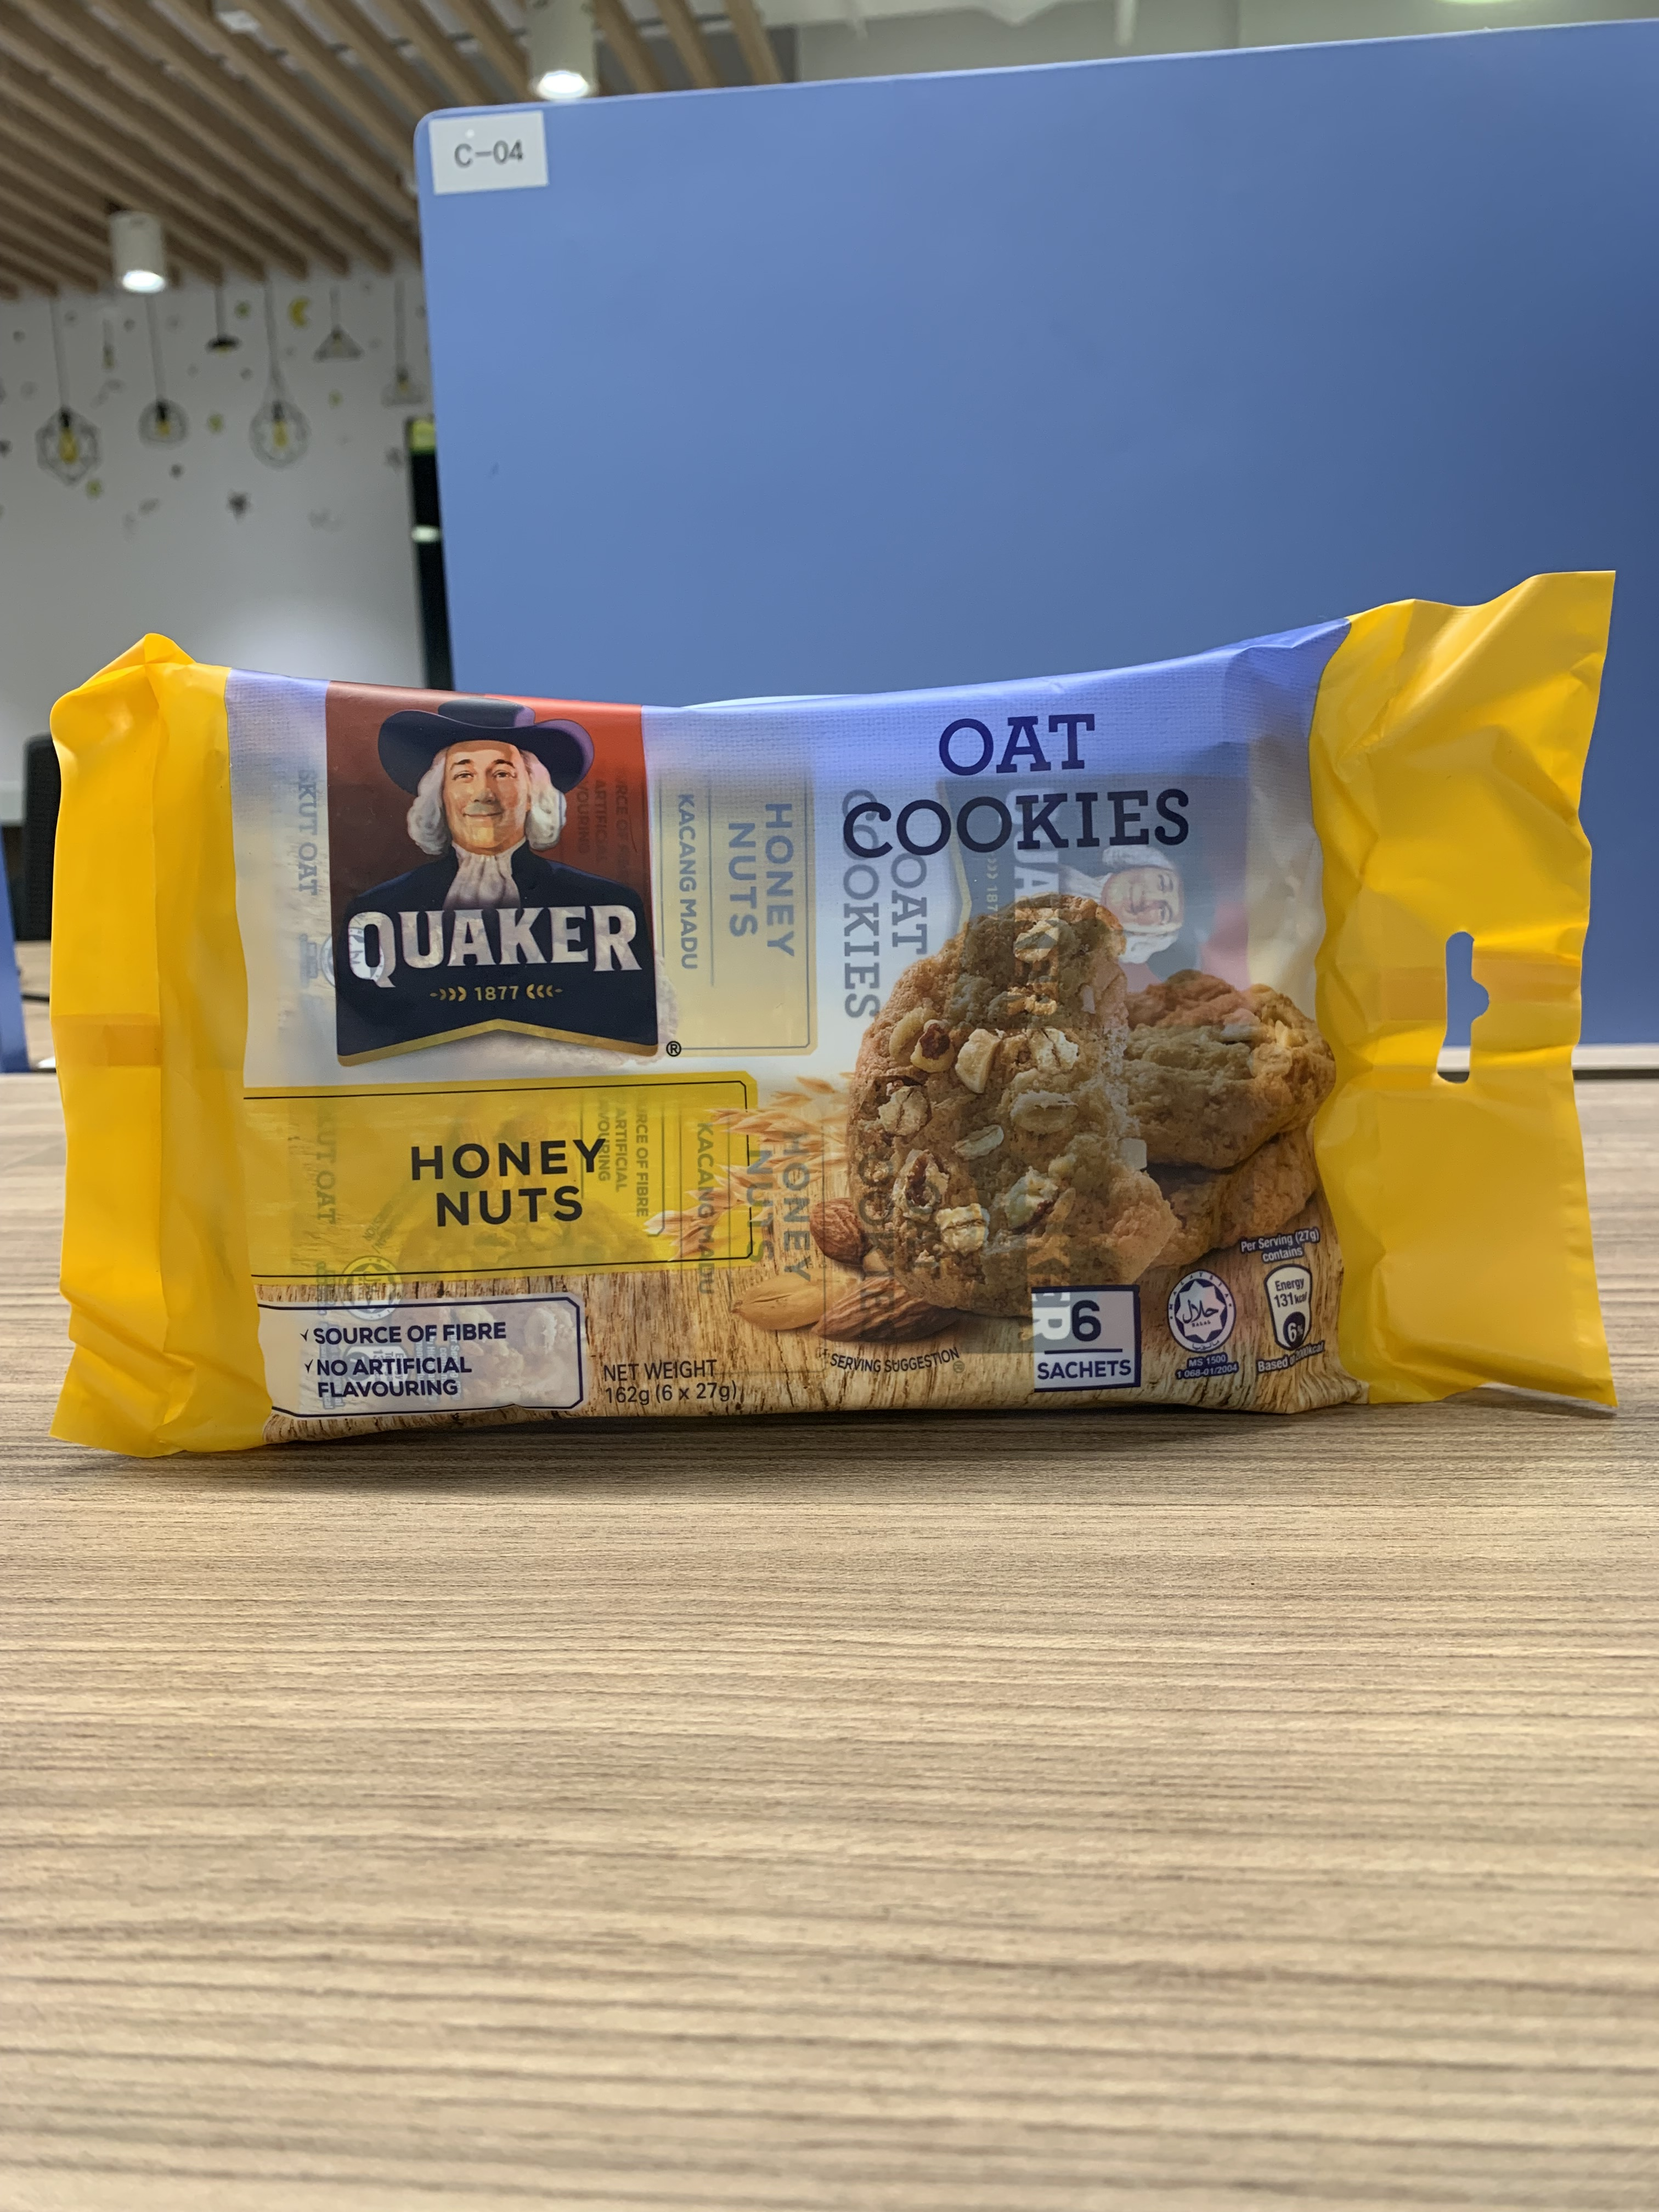halal: (1169, 1273, 1232, 1350)
